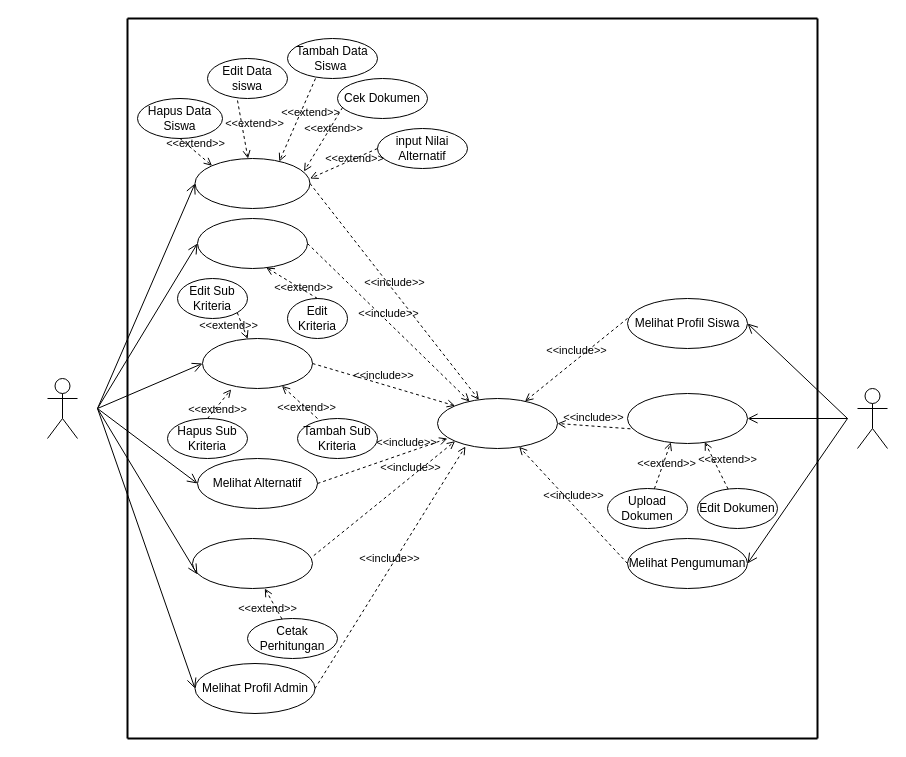
The diagram is 906 pixels wide and 757 high, and some of its shapes have lost their labels. The shapes that lost their labels are listed below. From the top down, each one's box as (x1, y1, x2, y2) in pixels, then its label:
(194, 158, 310, 208): Mengelola Data Siswa
(196, 218, 308, 268): Mengelola Data Kriteria
(202, 338, 312, 388): Mengelola Data Sub Kriteria
(46, 378, 78, 438): Admin / Operator
(436, 398, 558, 448): Login
(626, 392, 748, 444): Mengelola Dokumen
(856, 388, 888, 448): Siswa
(192, 538, 312, 588): Melihat Perhitungan
